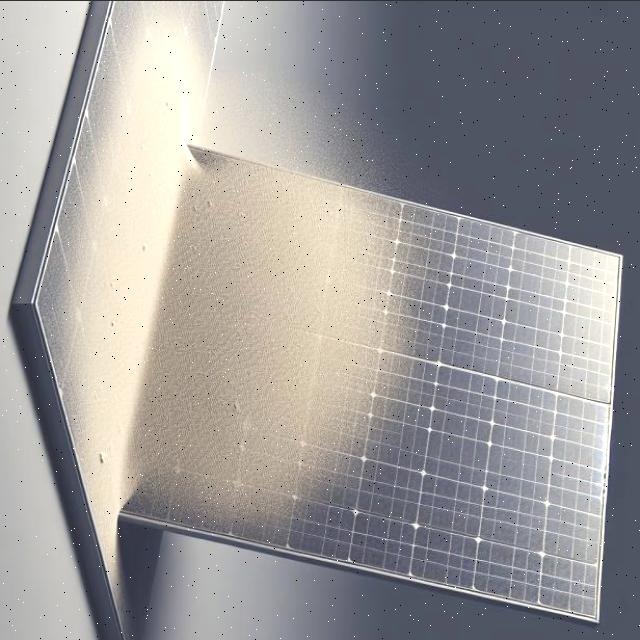Anomaly Solar Panel: (118, 144, 640, 619)
Surface Contaminant: (123, 146, 455, 565)
